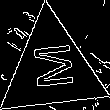M_W: (27, 43, 77, 95)
